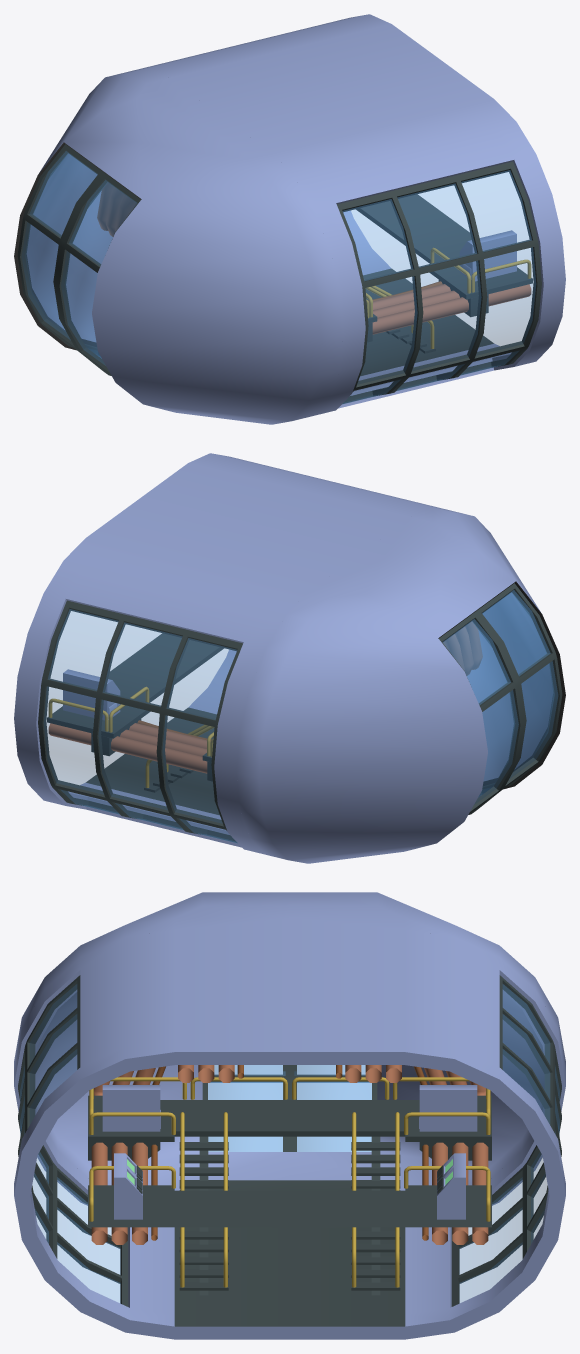
Rendered from Block_mid_02_1.fbx.
3 views of the same model, one above another, from view 1: azimuth 30°, elevation 25°; view 2: azimuth 150°, elevation 25°; view 3: azimuth 270°, elevation 25° (orthographic). The views are drawn at different scales.
Parts seen in each view (by area): view 1: Circle.003; view 2: Circle.003; view 3: Circle.003.
Boxes of the visible parts, x1,y1,x2,y2 form: Circle.003: (14, 14, 565, 424); Circle.003: (14, 453, 565, 863); Circle.003: (14, 892, 565, 1339).
Bounding box in the file's own units: 17.54 × 11 × 19.14.
